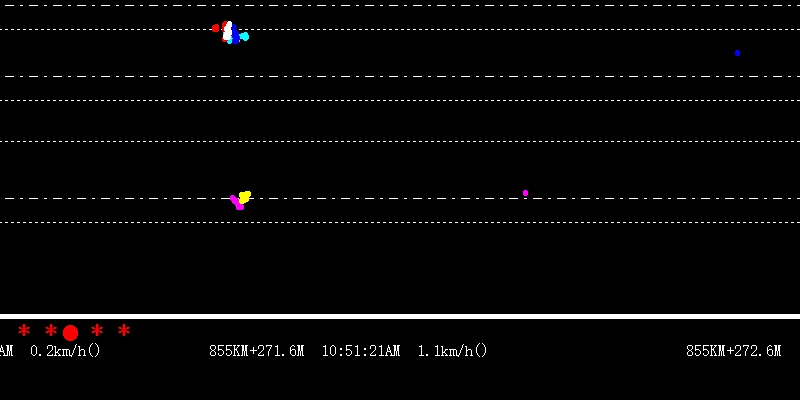circle: (61, 323, 79, 341)
face_1: (211, 21, 219, 35)
face_2: (221, 17, 241, 49)
star: (88, 320, 103, 338), (15, 321, 30, 338), (43, 320, 58, 337), (117, 320, 130, 339)
